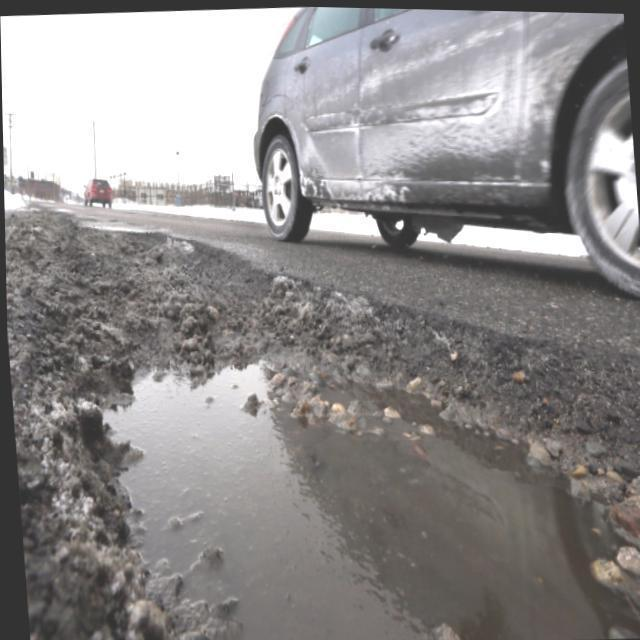Pothole: (6, 205, 640, 640)
